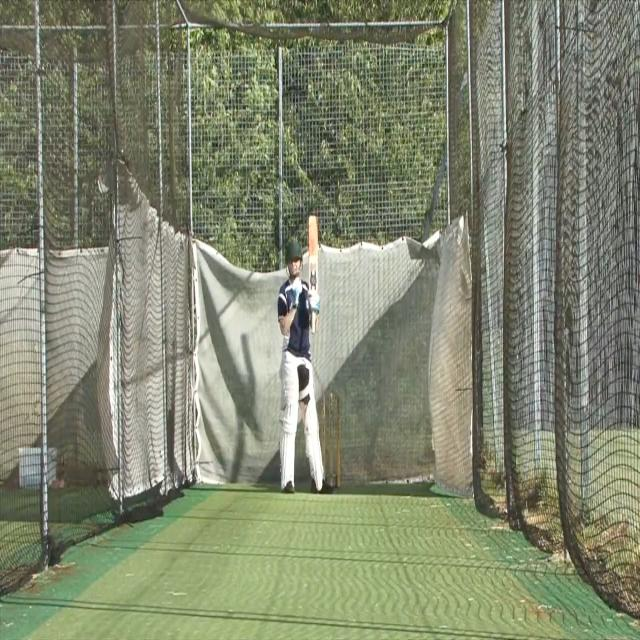batsman: (276, 212, 336, 497)
